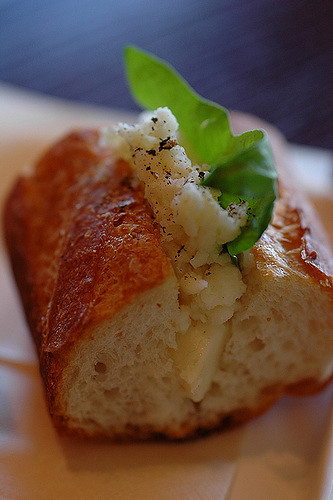slice of bread: (9, 101, 333, 440)
